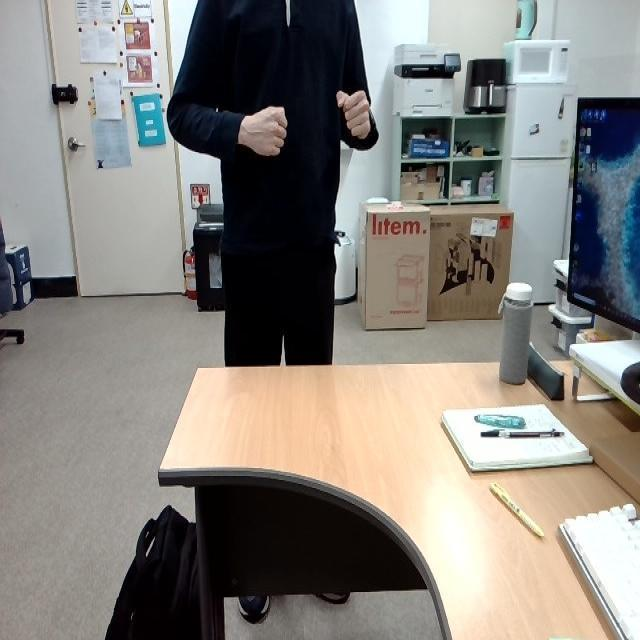bare_hand: (231, 102, 291, 164), (333, 83, 375, 146)
